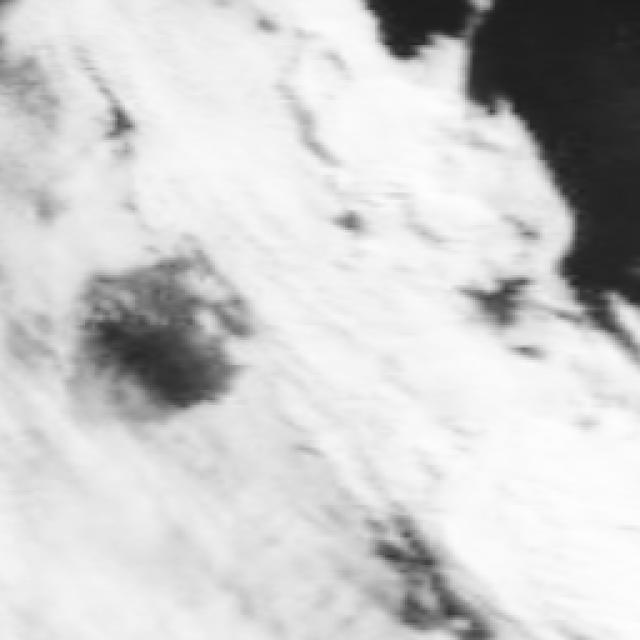CB: (103, 2, 317, 192), (247, 195, 454, 387), (293, 331, 505, 498), (168, 449, 345, 640), (0, 458, 174, 640), (485, 408, 640, 612), (0, 97, 108, 265)
